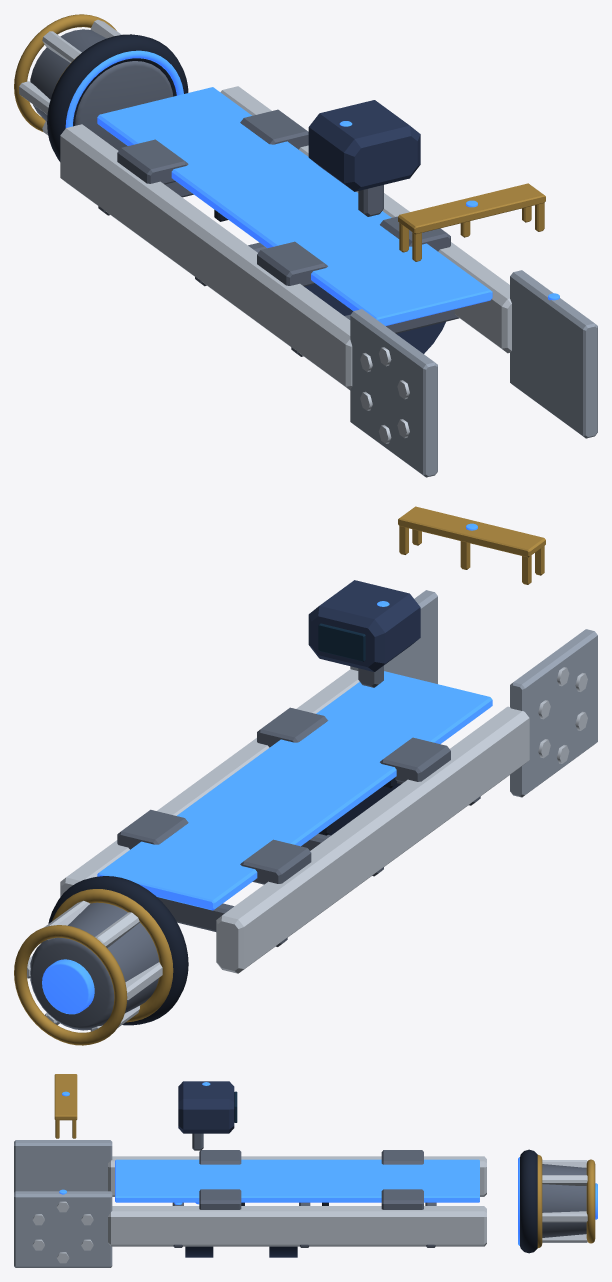
The model's file is tower_lance_damage_s10.glb.
3 views of the same model, one above another, from view 1: azimuth 30°, elevation 25°; view 2: azimuth 150°, elevation 25°; view 3: azimuth 270°, elevation 25° (orthographic). The views are drawn at different scales.
Visible parts, largest first — view 1: lance_accelerator_b, lance_heavy_rail_r, lance_breech_cheek_l, lance_breech_cheek_r, lance_sensor_pod, lance_breaker_body, lance_heavy_rail_l, lance_coil4, lance_terminal_cage_top, lance_heavy_rail_brace2_r, lance_heavy_rail_brace_r, lance_breaker_ring (+8 smaller); view 2: lance_accelerator_b, lance_heavy_rail_r, lance_breech_cheek_r, lance_breaker_body, lance_sensor_pod, lance_breaker_ring, lance_heavy_rail_l, lance_coil4, lance_terminal_cage_top, lance_coil_winding4, lance_breech_cheek_l, lance_breaker_core (+9 smaller); view 3: lance_heavy_rail_l, lance_accelerator_b, lance_breech_cheek_l, lance_breech_cheek_r, lance_sensor_pod, lance_breaker_body, lance_coil4, lance_heavy_rail_r, lance_terminal_cage_top, lance_heavy_rail_brace2_l, lance_heavy_rail_brace_l, lance_breaker_ring (+10 smaller).
Boxes of the visible parts, bbox=[...] form: lance_accelerator_b: bbox=[97, 87, 492, 325]; lance_heavy_rail_r: bbox=[60, 124, 352, 390]; lance_breech_cheek_l: bbox=[510, 270, 597, 438]; lance_breech_cheek_r: bbox=[350, 309, 437, 477]; lance_sensor_pod: bbox=[308, 100, 420, 191]; lance_breaker_body: bbox=[30, 29, 173, 150]; lance_heavy_rail_l: bbox=[220, 86, 511, 353]; lance_coil4: bbox=[47, 34, 188, 161]; lance_terminal_cage_top: bbox=[398, 183, 545, 234]; lance_heavy_rail_brace2_r: bbox=[117, 139, 188, 184]; lance_heavy_rail_brace_r: bbox=[257, 241, 327, 286]; lance_breaker_ring: bbox=[14, 14, 116, 131]; lance_accelerator_b: bbox=[97, 671, 492, 910]; lance_heavy_rail_r: bbox=[216, 706, 529, 973]; lance_breech_cheek_r: bbox=[510, 629, 597, 797]; lance_breaker_body: bbox=[30, 902, 159, 1030]; lance_sensor_pod: bbox=[308, 580, 420, 671]; lance_breaker_ring: bbox=[14, 925, 127, 1045]; lance_heavy_rail_l: bbox=[60, 669, 359, 896]; lance_coil4: bbox=[48, 876, 188, 1025]; lance_terminal_cage_top: bbox=[398, 506, 545, 557]; lance_coil_winding4: bbox=[52, 889, 173, 1022]; lance_breech_cheek_l: bbox=[350, 590, 437, 683]; lance_breaker_core: bbox=[42, 959, 94, 1014]; lance_heavy_rail_l: bbox=[108, 1206, 486, 1246]; lance_accelerator_b: bbox=[115, 1159, 479, 1202]; lance_breech_cheek_l: bbox=[14, 1191, 112, 1267]; lance_breech_cheek_r: bbox=[14, 1140, 112, 1192]; lance_sensor_pod: bbox=[178, 1081, 234, 1133]; lance_breaker_body: bbox=[542, 1164, 586, 1237]; lance_coil4: bbox=[520, 1149, 537, 1253]; lance_heavy_rail_r: bbox=[108, 1156, 486, 1196]; lance_terminal_cage_top: bbox=[54, 1074, 77, 1120]; lance_heavy_rail_brace2_l: bbox=[381, 1189, 423, 1209]; lance_heavy_rail_brace_l: bbox=[199, 1189, 241, 1209]; lance_breaker_ring: bbox=[586, 1159, 595, 1243].
Size of the model in its own units: 0.9896 by 1.28 by 4.16.
